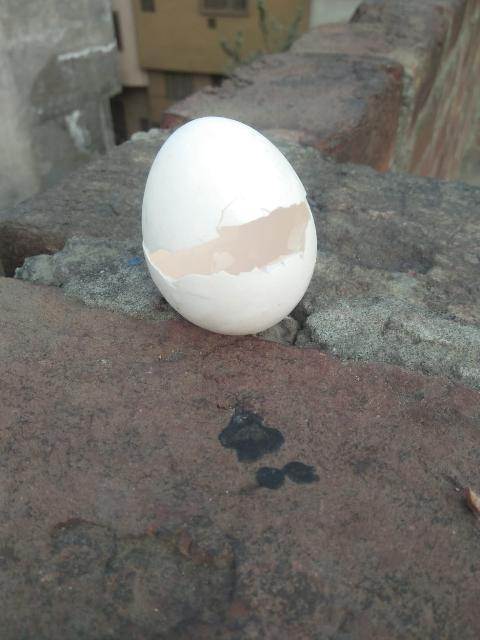Roto: (140, 114, 318, 336)
